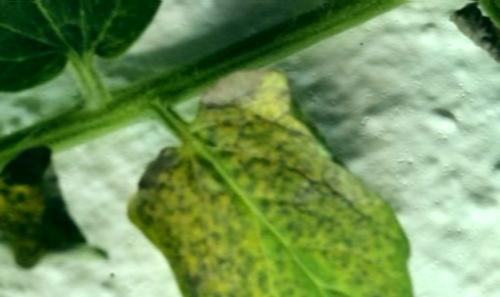Tomato leaf bacterial spot: (129, 79, 421, 294)
